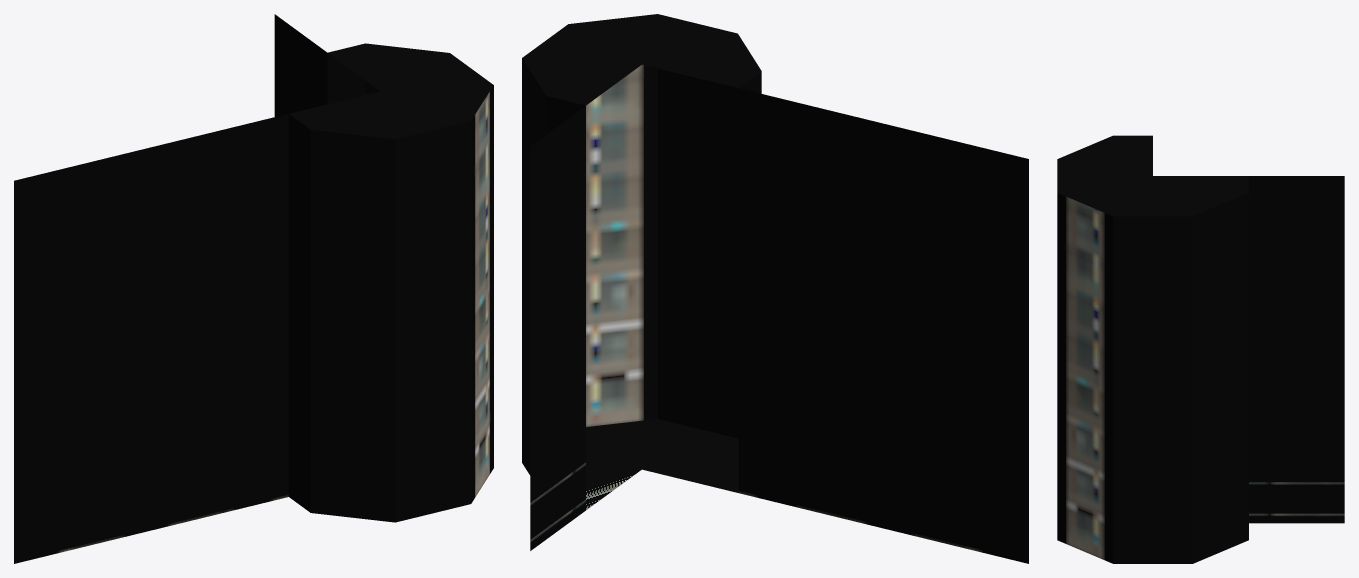
The model's file is Pagoda_Body_Tile_Corner_Octo_2500x2500_B.FBX.
The picture shows the model from 3 angles, left to right: view 1: azimuth 30°, elevation 25°; view 2: azimuth 150°, elevation 25°; view 3: azimuth 270°, elevation 25°; orthographic projection. The views are drawn at different scales.
Visible parts, largest first — view 1: Geometry_Pagoda_Body_Tile_Corner_Octo_2500x2500_B_LOD01; view 2: Geometry_Pagoda_Body_Tile_Corner_Octo_2500x2500_B_LOD01; view 3: Geometry_Pagoda_Body_Tile_Corner_Octo_2500x2500_B_LOD01.
Part boxes in pixels (x1=…): Geometry_Pagoda_Body_Tile_Corner_Octo_2500x2500_B_LOD01: x1=14, y1=14, x2=493, y2=563; Geometry_Pagoda_Body_Tile_Corner_Octo_2500x2500_B_LOD01: x1=522, y1=14, x2=1028, y2=563; Geometry_Pagoda_Body_Tile_Corner_Octo_2500x2500_B_LOD01: x1=1057, y1=135, x2=1344, y2=563.
Size of the model in its own units: 3125 by 2500 by 1875.
